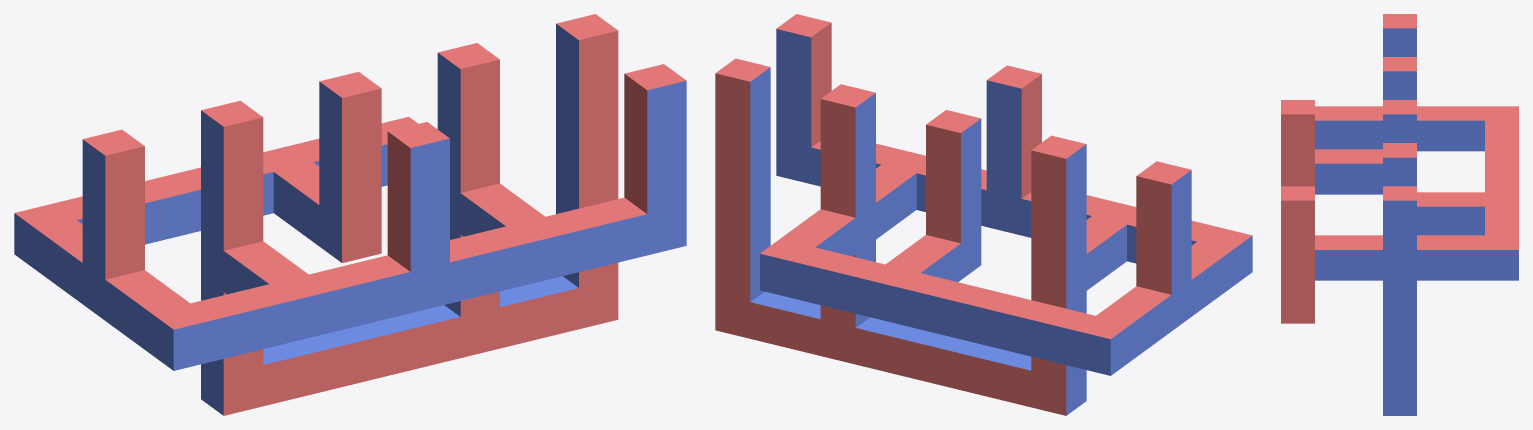
File: steane_v3_10x.dae
3 views of the same model, side by side, from view 1: azimuth 30°, elevation 25°; view 2: azimuth 150°, elevation 25°; view 3: azimuth 270°, elevation 25° (orthographic). The views are drawn at different scales.
Parts seen in each view (by area): view 1: zxx (×15), zxo (×10), xzo (×8), oxz (×9), zox (×8), zzx (×9), xzx (×7), ozx (×5), zxz (×6), xoz (×2), xzz (×2); view 2: zxo (×11), zxx (×15), oxz (×9), xzo (×7), xzx (×8), zox (×8), ozx (×4), zzx (×8), zxz (×6), xoz (×4), xzz (×3), xxz; view 3: zox (×8), zxx (×11), xoz (×4), xzx (×4), xzo (×3), zxo (×2), ozx (×2), xzz (×2), zxz, zzx (×2).
Boxes of the visible parts, left/top/right/bottom form: zxx (×15): left=82, top=14, right=618, bottom=291; zxo (×10): left=82, top=65, right=618, bottom=374; xzo (×8): left=387, top=115, right=686, bottom=303; oxz (×9): left=263, top=94, right=578, bottom=406; zox (×8): left=37, top=162, right=319, bottom=353; zzx (×9): left=14, top=174, right=331, bottom=370; xzx (×7): left=263, top=64, right=686, bottom=312; ozx (×5): left=191, top=172, right=410, bottom=361; zxz (×6): left=201, top=278, right=618, bottom=415; xoz (×2): left=460, top=183, right=544, bottom=236; xzz (×2): left=506, top=217, right=568, bottom=284; zxo (×11): left=715, top=104, right=1191, bottom=378; zxx (×15): left=715, top=58, right=1191, bottom=305; oxz (×9): left=750, top=130, right=1031, bottom=407; xzo (×7): left=776, top=59, right=1041, bottom=315; xzx (×8): left=776, top=14, right=1041, bottom=324; zox (×8): left=885, top=216, right=1232, bottom=360; ozx (×4): left=900, top=273, right=1095, bottom=367; zzx (×8): left=970, top=201, right=1252, bottom=375; zxz (×6): left=715, top=293, right=1086, bottom=415; xoz (×4): left=780, top=164, right=916, bottom=256; xzz (×3): left=760, top=150, right=925, bottom=298; xxz: left=855, top=203, right=875, bottom=253; zox (×8): left=1315, top=106, right=1484, bottom=235; zxx (×11): left=1383, top=14, right=1416, bottom=323; xoz (×4): left=1315, top=235, right=1484, bottom=280; xzx (×4): left=1281, top=100, right=1518, bottom=323; xzo (×3): left=1281, top=145, right=1518, bottom=292; zxo (×2): left=1383, top=231, right=1416, bottom=385; ozx (×2): left=1485, top=120, right=1518, bottom=192; xzz (×2): left=1485, top=235, right=1518, bottom=280; zxz: left=1383, top=385, right=1416, bottom=415; zzx (×2): left=1485, top=106, right=1518, bottom=163.
Bounding box in the file's own units: 13 × 7 × 7.
